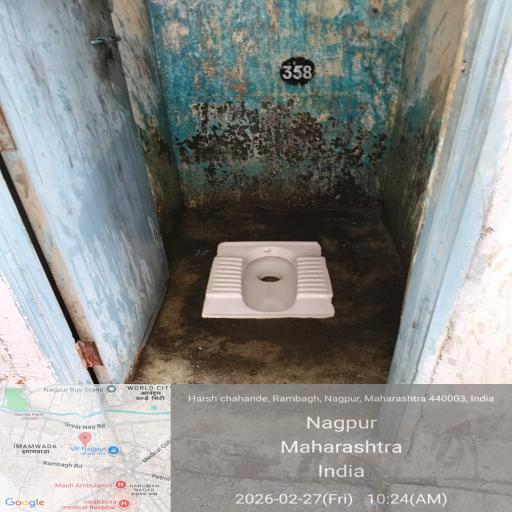clean_indian: (195, 235, 347, 335)
dirty_floor: (88, 220, 392, 444), (136, 19, 436, 228)
